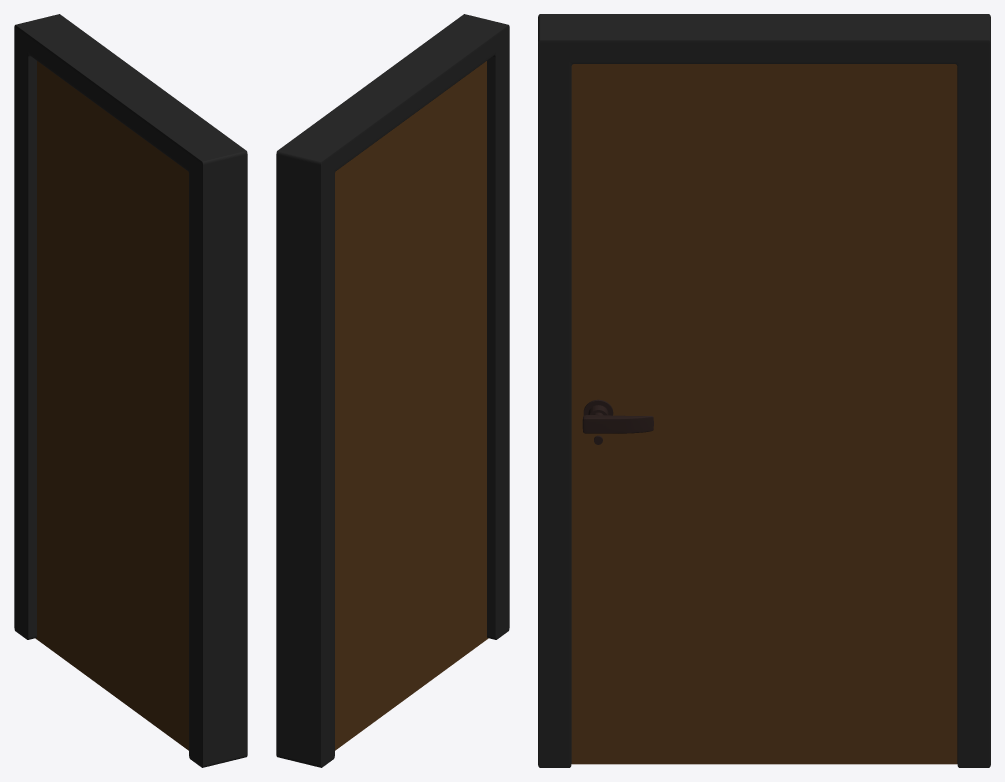
The model's file is doorER.fbx.
3 renders of one model, left to right at view 1: azimuth 30°, elevation 25°; view 2: azimuth 150°, elevation 25°; view 3: azimuth 270°, elevation 25°, orthographic. The views are drawn at different scales.
Visible parts, largest first — view 1: Cube.001, Cube; view 2: Cube.001, Cube; view 3: Cube.001, Cube, Cube.002.
Boxes of the visible parts, box(x1,y1,x2,y2) form: Cube.001: box(35, 61, 188, 750); Cube: box(14, 14, 247, 767); Cube.001: box(335, 61, 488, 750); Cube: box(276, 14, 509, 767); Cube.001: box(571, 64, 957, 764); Cube: box(538, 14, 990, 767); Cube.002: box(582, 415, 653, 433).
Bounding box in the file's own units: 65.81 × 648 × 365.
